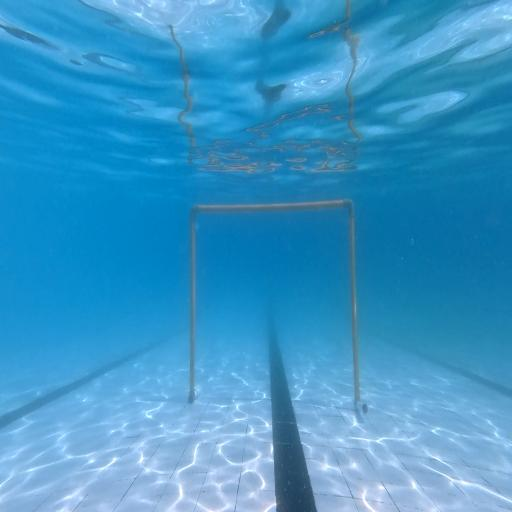gate: (188, 198, 368, 414)
